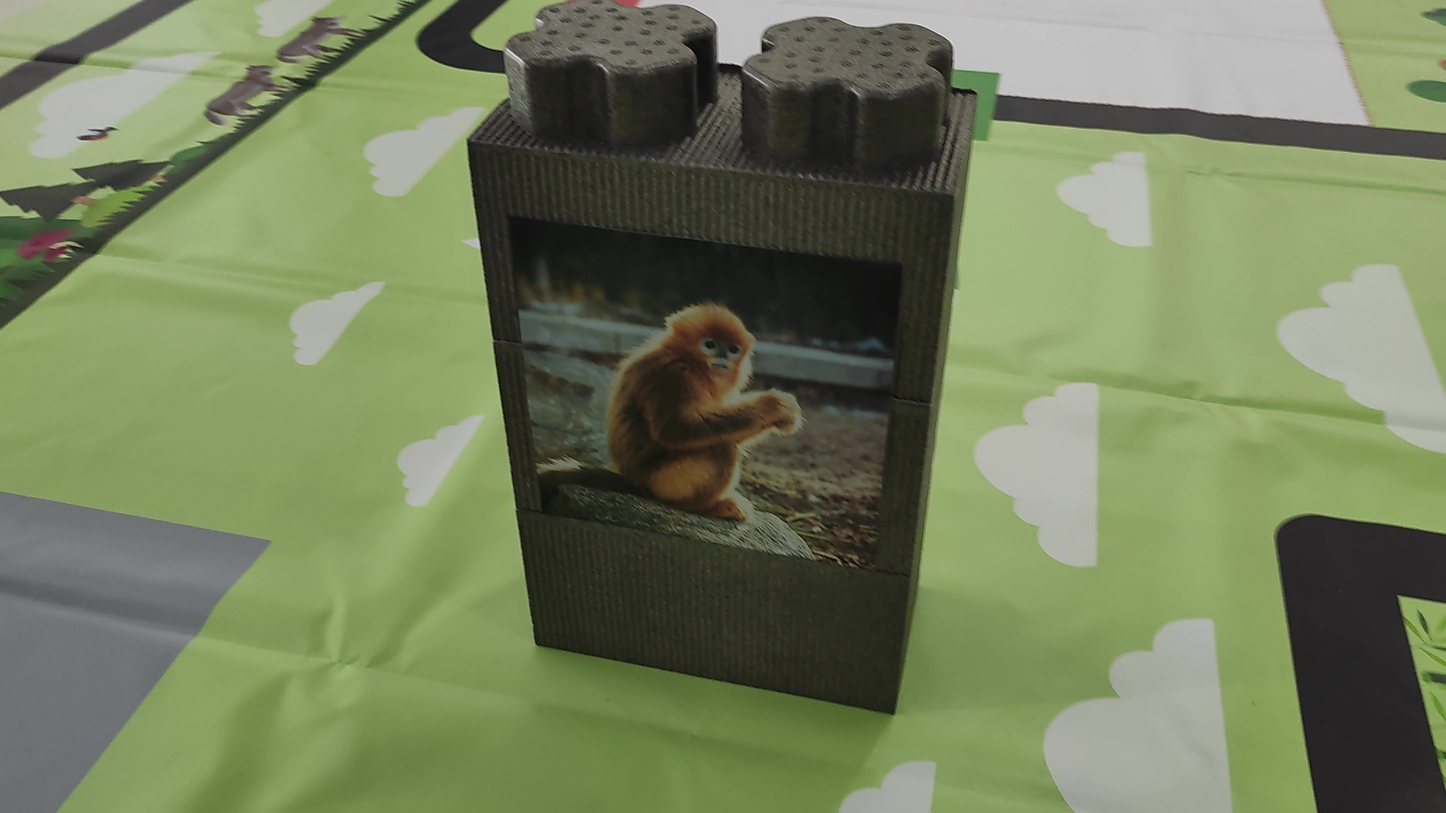monkey: (583, 285, 827, 497)
